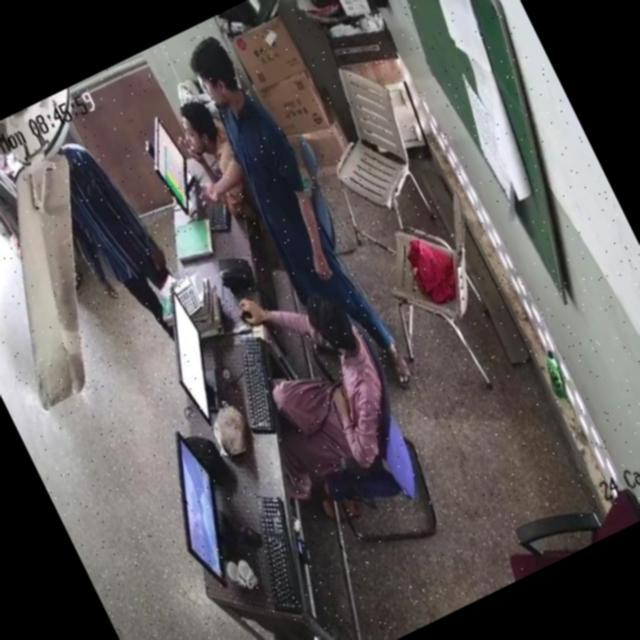person: (181, 20, 405, 384), (251, 292, 408, 478), (40, 111, 176, 320), (170, 89, 256, 208)
